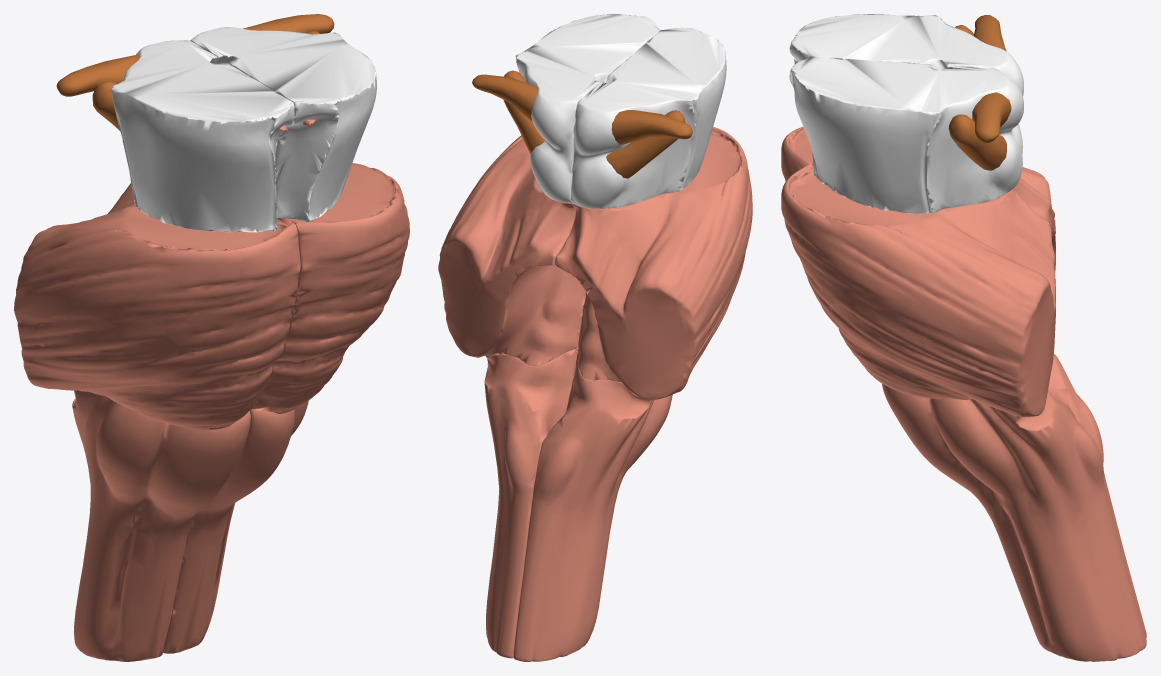
The model's file is cns-brainstem.glb.
3 views of the same model, side by side, from view 1: azimuth 30°, elevation 25°; view 2: azimuth 150°, elevation 25°; view 3: azimuth 270°, elevation 25° (orthographic). The views are drawn at different scales.
Visible parts, largest first — view 1: Pons_R, Medulla_oblongata_R, Midbrain_R, Pons_L, Midbrain_L, Medulla_oblongata_L, Superior_colliculus_R, Superior_colliculus_L, Inferior_colliculus_R; view 2: Pons_R, Medulla_oblongata_R, Pons_L, Midbrain_R, Medulla_oblongata_L, Midbrain_L, Superior_colliculus_R, Inferior_colliculus_R, Superior_colliculus_L, Inferior_colliculus_L; view 3: Pons_L, Medulla_oblongata_L, Midbrain_L, Midbrain_R, Pons_R, Medulla_oblongata_R, Inferior_colliculus_L, Superior_colliculus_L, Superior_colliculus_R.
Part boxes in pixels (<box>): Pons_R: <box>14,183,300,429</box>; Medulla_oblongata_R: <box>72,390,250,661</box>; Midbrain_R: <box>111,40,294,232</box>; Pons_L: <box>251,163,409,413</box>; Midbrain_L: <box>190,27,376,221</box>; Medulla_oblongata_L: <box>163,400,308,653</box>; Superior_colliculus_R: <box>56,54,139,96</box>; Superior_colliculus_L: <box>243,14,334,33</box>; Inferior_colliculus_R: <box>92,81,120,130</box>; Pons_R: <box>555,127,752,399</box>; Medulla_oblongata_R: <box>513,349,672,661</box>; Pons_L: <box>438,135,585,365</box>; Midbrain_R: <box>571,27,726,208</box>; Medulla_oblongata_L: <box>484,348,578,658</box>; Midbrain_L: <box>515,14,660,203</box>; Superior_colliculus_R: <box>611,110,692,144</box>; Inferior_colliculus_R: <box>606,110,685,178</box>; Superior_colliculus_L: <box>472,74,537,121</box>; Inferior_colliculus_L: <box>503,70,544,154</box>; Pons_L: <box>781,163,1055,417</box>; Medulla_oblongata_L: <box>882,383,1146,661</box>; Midbrain_L: <box>789,56,1023,213</box>; Midbrain_R: <box>789,14,1023,154</box>; Pons_R: <box>781,126,1055,272</box>; Medulla_oblongata_R: <box>1048,353,1146,637</box>; Inferior_colliculus_L: <box>948,114,1006,170</box>; Superior_colliculus_L: <box>972,92,1011,143</box>; Superior_colliculus_R: <box>974,15,1006,51</box>.
Size of the model in its own units: 0.041 by 0.0787 by 0.0444.
